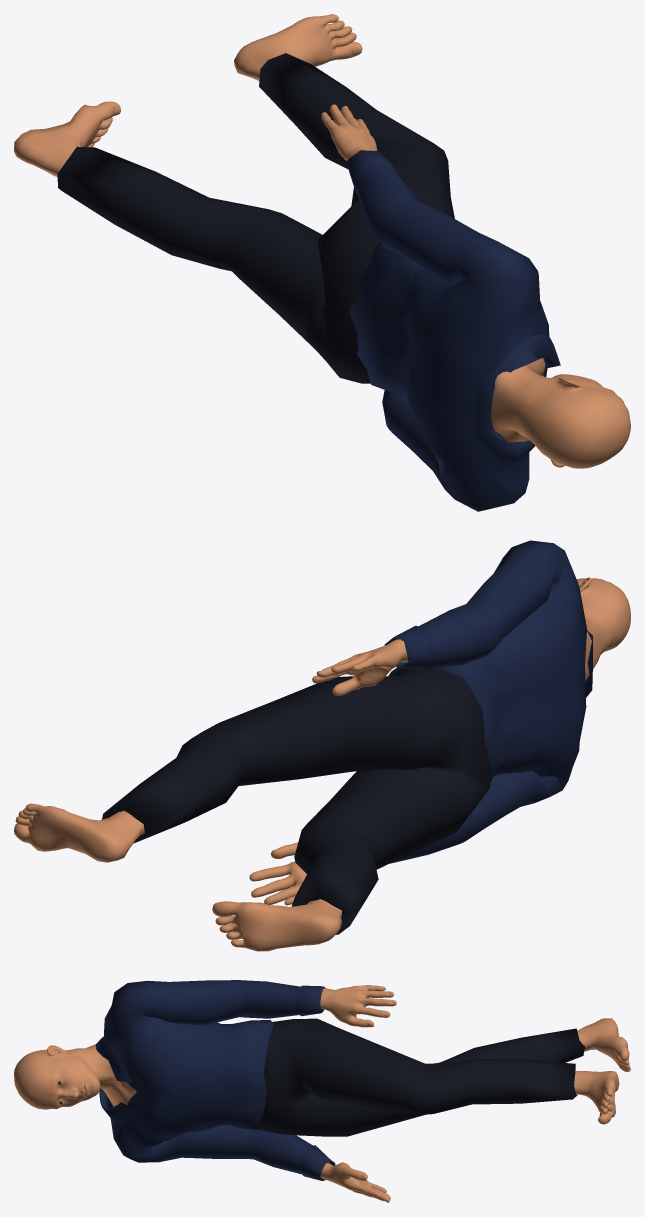
File: walk.obj
The picture shows the model from 3 angles, top to bottom: view 1: azimuth 30°, elevation 25°; view 2: azimuth 150°, elevation 25°; view 3: azimuth 270°, elevation 25°; orthographic projection. The views are drawn at different scales.
Size of the model in its own units: 0.7303 by 0.5536 by 1.68.
